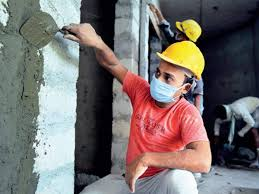safe person: (132, 39, 218, 185)
